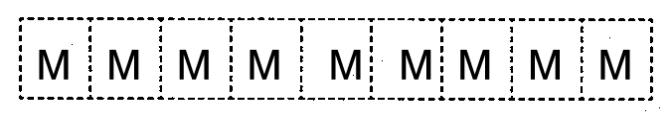M: (595, 41, 640, 89), (321, 42, 366, 87), (524, 41, 567, 88), (397, 42, 436, 89), (172, 43, 214, 86), (244, 44, 286, 86), (103, 43, 145, 85), (456, 42, 496, 86), (34, 44, 74, 87)
